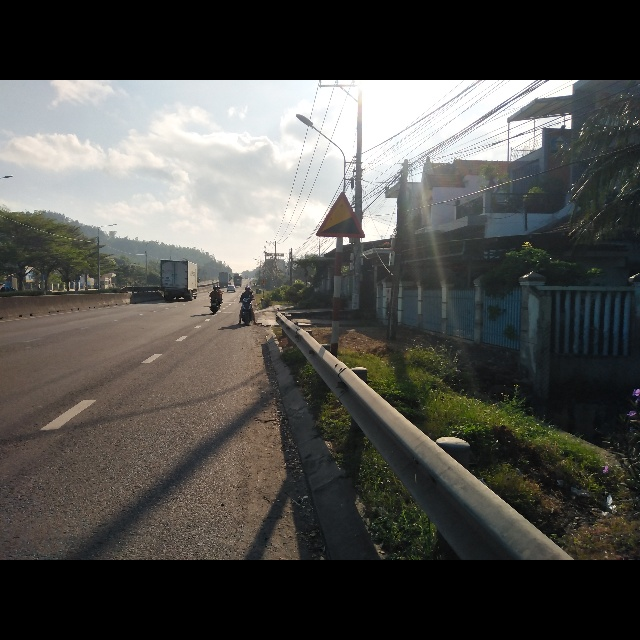Dốc lên nguy hiểm: (315, 189, 368, 239)
